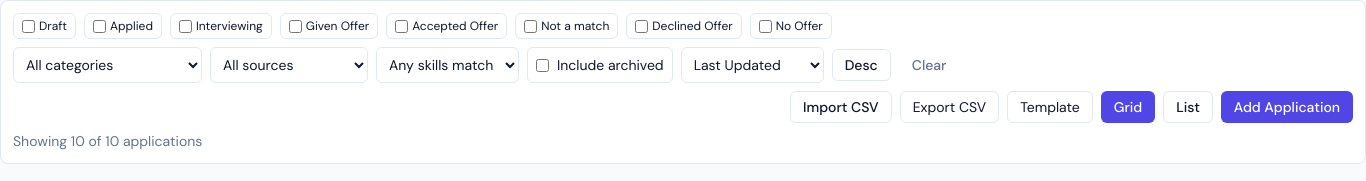
FilterBar › toggles status and shows active filter count
Click the checkbox labelled "Applied" at [100, 26], box [93, 20, 106, 32]
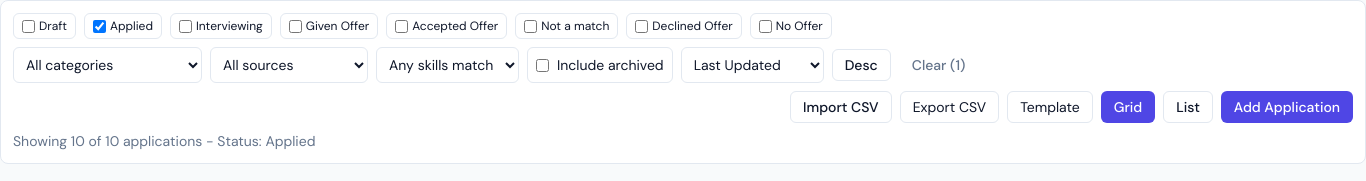
Expected: the button "Clear (1)" is shown, [899, 49, 978, 81]
